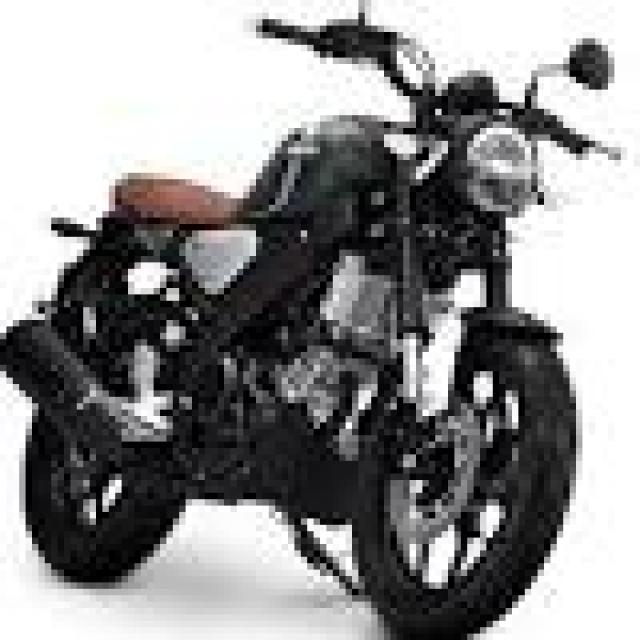MOTORCYCLE: (7, 8, 585, 613)
